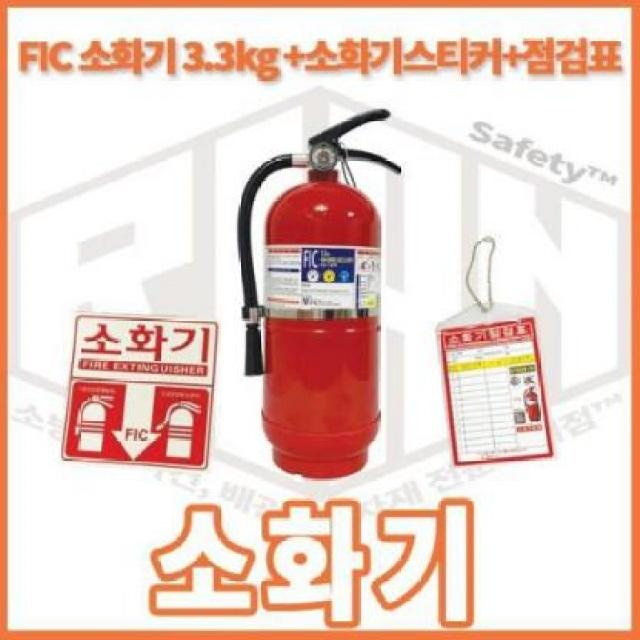fire extinguisher: (235, 108, 401, 480)
